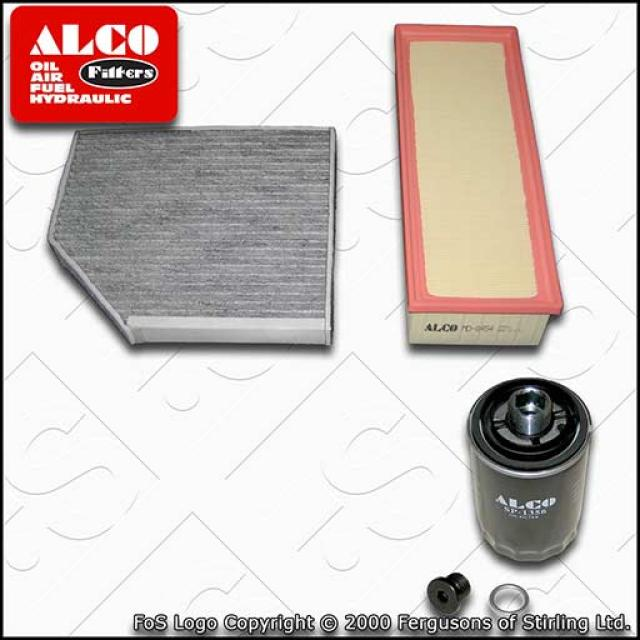air_filter: (41, 124, 345, 354), (392, 21, 569, 348)
oil_filter: (468, 370, 594, 567)
